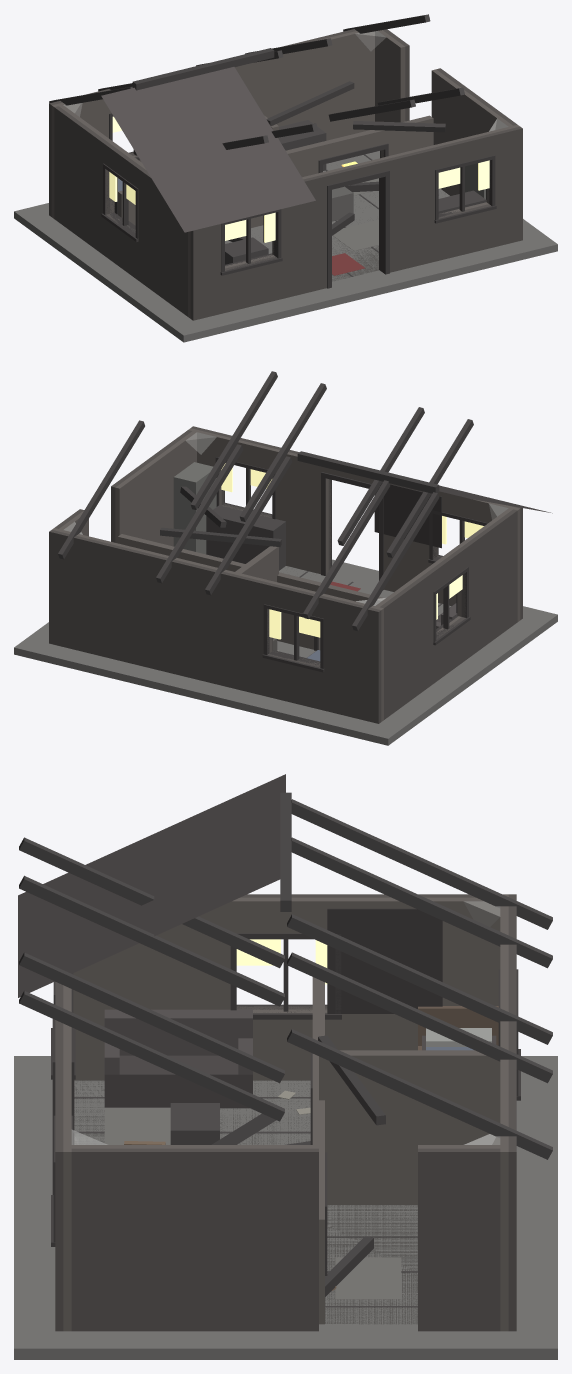
The model's file is casa_09_queimada.glb.
3 renders of one model, top to bottom at view 1: azimuth 30°, elevation 25°; view 2: azimuth 150°, elevation 25°; view 3: azimuth 270°, elevation 25°, orthographic. The views are drawn at different scales.
Parts seen in each view (by area): view 1: walls_exterior, wall_south, roof, floor, walls_interior, furniture, decor_grim, glass, cobwebs; view 2: walls_exterior, roof, floor, wall_south, furniture, walls_interior, decor_grim, glass, cobwebs; view 3: walls_exterior, roof, floor, walls_interior, decor_grim, furniture, wall_south, cobwebs, glass.
Part boxes in pixels (box(x1,y1,x2,y2)): walls_exterior: box(49, 29, 516, 316); wall_south: box(188, 124, 522, 320); roof: box(49, 14, 464, 232); floor: box(14, 151, 557, 342); walls_interior: box(118, 115, 433, 227); furniture: box(118, 120, 486, 264); decor_grim: box(114, 178, 378, 275); glass: box(109, 116, 489, 242); cobwebs: box(64, 31, 507, 131); walls_exterior: box(49, 430, 517, 723); roof: box(58, 371, 552, 630); floor: box(14, 559, 557, 745); wall_south: box(188, 426, 522, 621); furniture: box(173, 462, 457, 661); walls_interior: box(118, 534, 384, 650); decor_grim: box(277, 482, 441, 651); glass: box(221, 463, 483, 639); cobwebs: box(64, 432, 507, 605); walls_exterior: box(71, 894, 520, 1331); roof: box(18, 774, 552, 1159); floor: box(14, 1056, 557, 1359); walls_interior: box(310, 977, 500, 1324); decor_grim: box(71, 908, 442, 1299); furniture: box(104, 1006, 498, 1144); wall_south: box(51, 981, 75, 1331); cobwebs: box(72, 901, 499, 1144); glass: box(236, 939, 327, 984).
Bounding box in the file's own units: 8.4 × 4.05 × 6.6.
